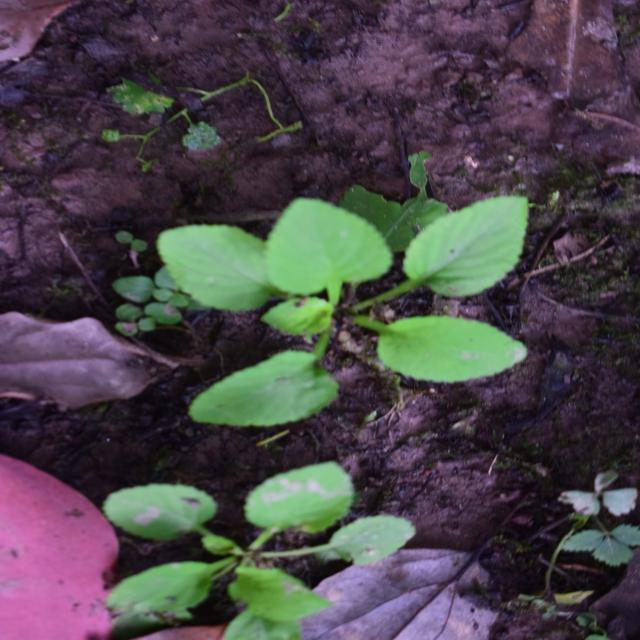Viola: (188, 81, 437, 488)
